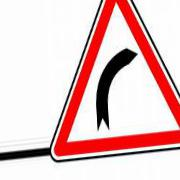right: (49, 1, 180, 161)
